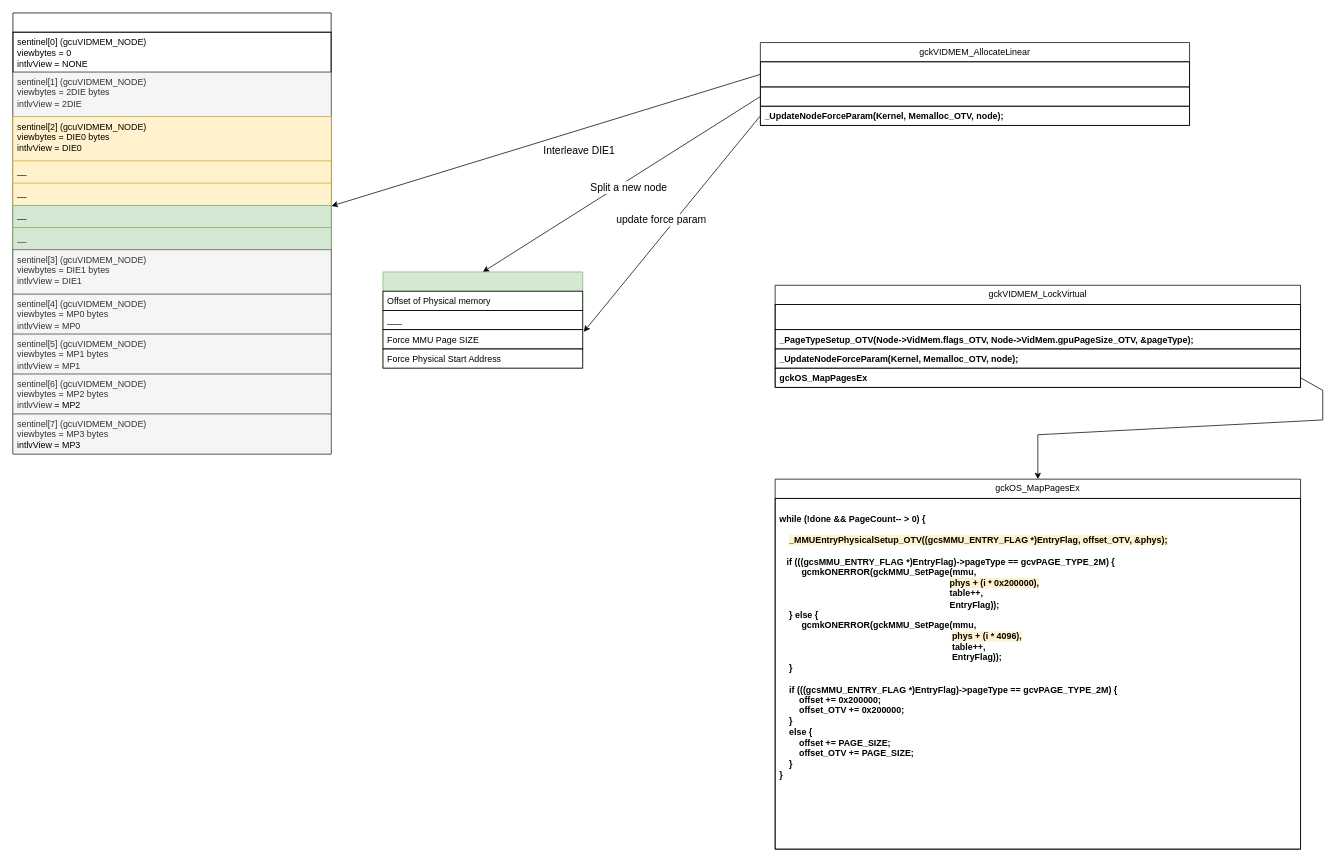
Image size: 1342x864. Some labels were removed from this diagram. The shapes that lost their labels are listed below. From the top down, each one's box as (x1, y1, x2, y2) in pixels, then its label:
(760, 61, 1190, 87): node = _FindNode_OTV (Memalloc_OTV, Kernel, Memory, Bytes, &alignment);
(760, 86, 1190, 106): _UpdateNodeForceParam (Kernel, Memalloc_OTV, node);
(12, 12, 331, 454): gckVIDMEM
(382, 271, 583, 368): gcuVIDMEM_NODE
(774, 304, 1301, 330): offset = _GetNodeOffset_OTV(Kernel->device, Node);
